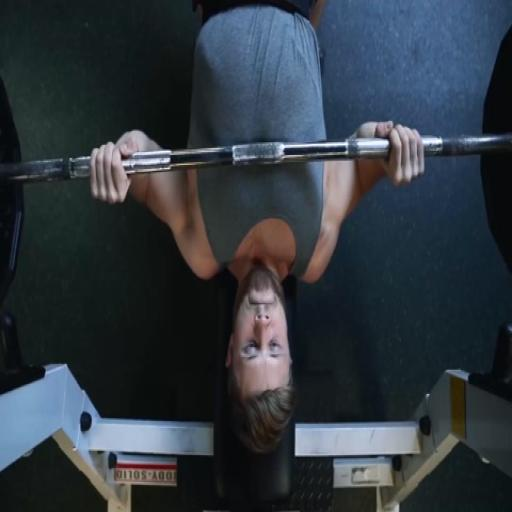exercise: (86, 0, 428, 457)
